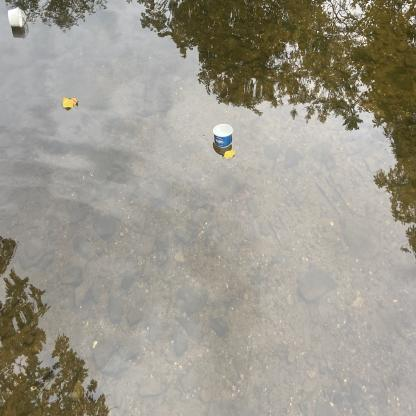trash: (208, 118, 238, 154), (5, 6, 24, 28), (19, 7, 29, 28)
